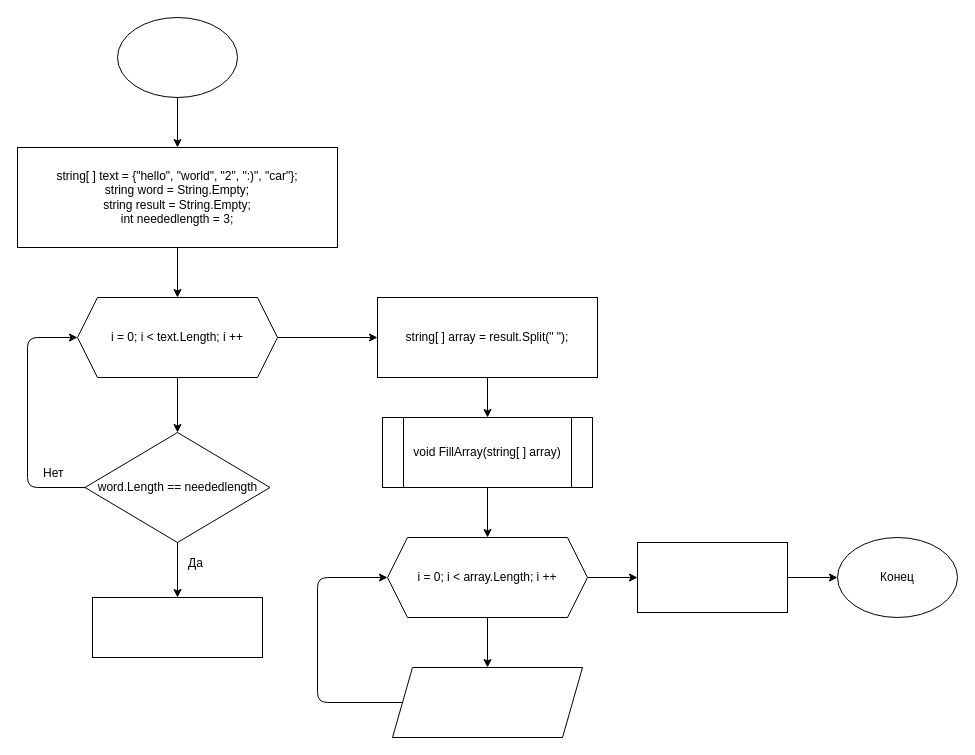
This 975x755 diagram has some shape labels left out. Here are the shapes that lost their labels. From the top down, the centre of each, then its label:
the point at 177,57: Начало
the point at 712,577: FillArray(array);
the point at 177,627: result = result + " " + text[ i ];
the point at 487,702: Console.Write(array[ i ] + " ");
